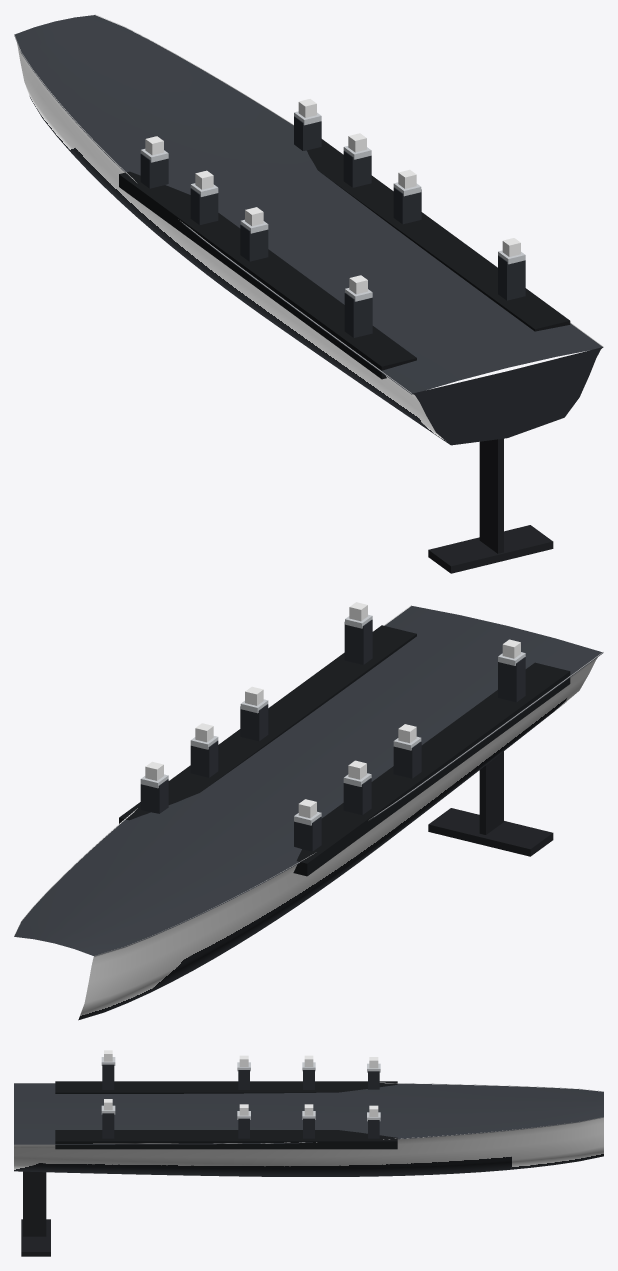
File: hull_6.glb
3 renders of one model, top to bottom at view 1: azimuth 30°, elevation 25°; view 2: azimuth 150°, elevation 25°; view 3: azimuth 270°, elevation 25°, orthographic. The views are drawn at different scales.
Parts seen in each view (by area): view 1: hull_6_body; view 2: hull_6_body; view 3: hull_6_body.
Boxes of the visible parts, x1,y1,x2,y2 form: hull_6_body: (14, 14, 603, 573); hull_6_body: (14, 602, 603, 1020); hull_6_body: (14, 1050, 603, 1256).
Size of the model in its own units: 4.9 by 6.13 by 20.
1 material, 1 textured.
